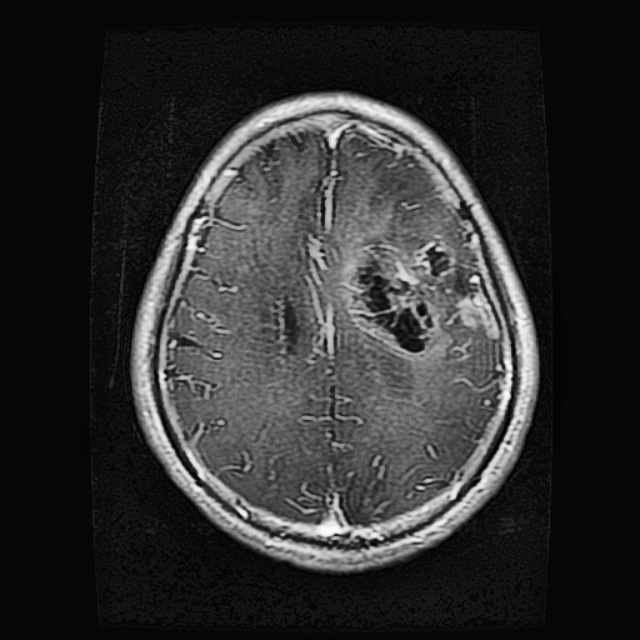Pituitary: (343, 237, 500, 354)
